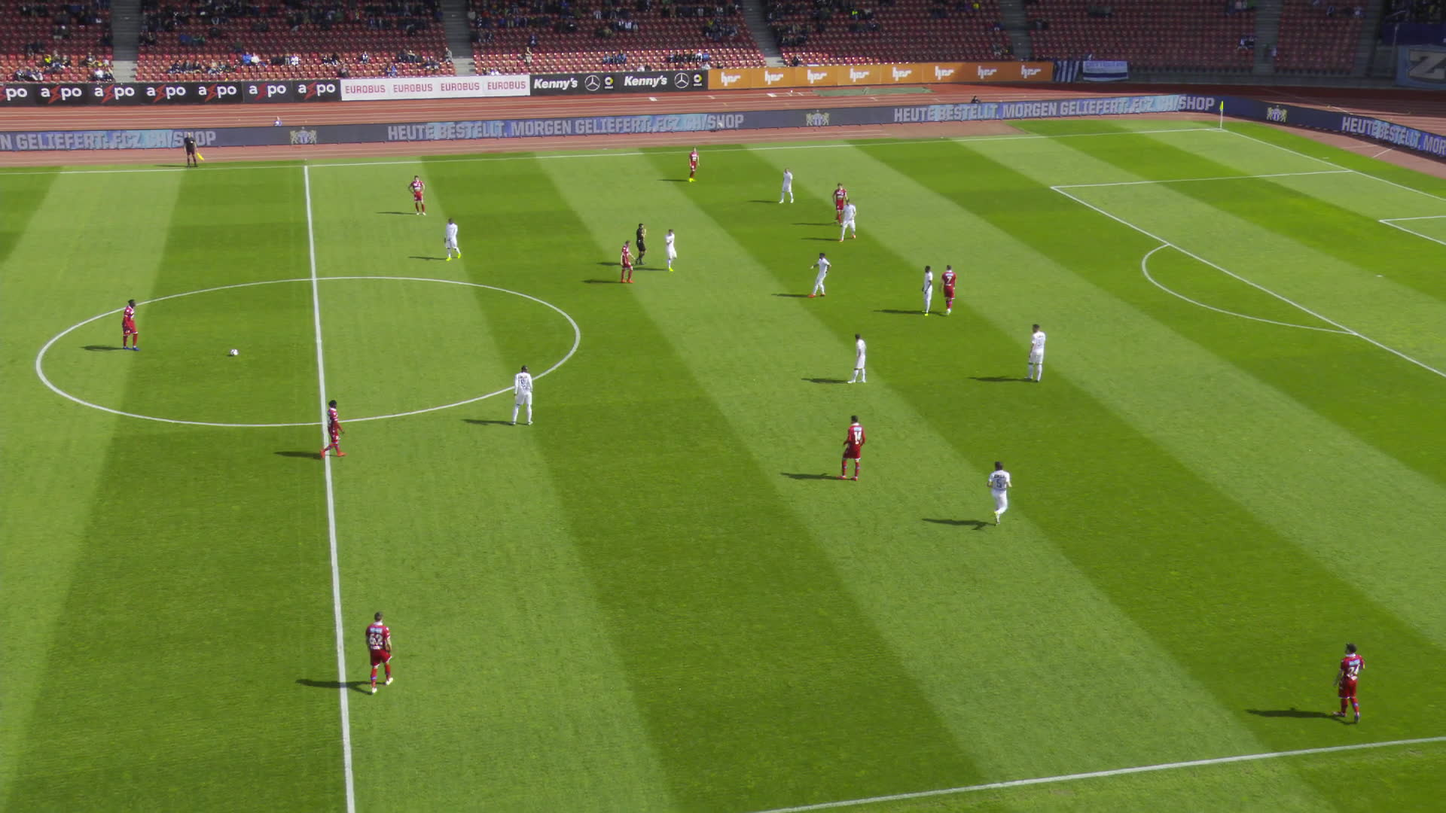ball: (231, 348, 239, 355)
player: (1325, 637, 1376, 727), (359, 608, 402, 696), (982, 459, 1014, 534), (320, 397, 354, 458), (511, 359, 541, 427), (842, 411, 870, 483), (124, 293, 151, 355), (1027, 323, 1054, 385), (850, 329, 874, 386), (814, 252, 840, 301), (941, 262, 965, 315), (847, 196, 870, 242), (445, 215, 466, 263), (923, 263, 942, 315), (412, 173, 435, 215), (666, 226, 685, 272), (833, 182, 853, 224), (622, 238, 639, 285), (781, 165, 800, 205), (690, 146, 707, 185)
referee: (186, 129, 209, 169), (634, 218, 653, 266)
